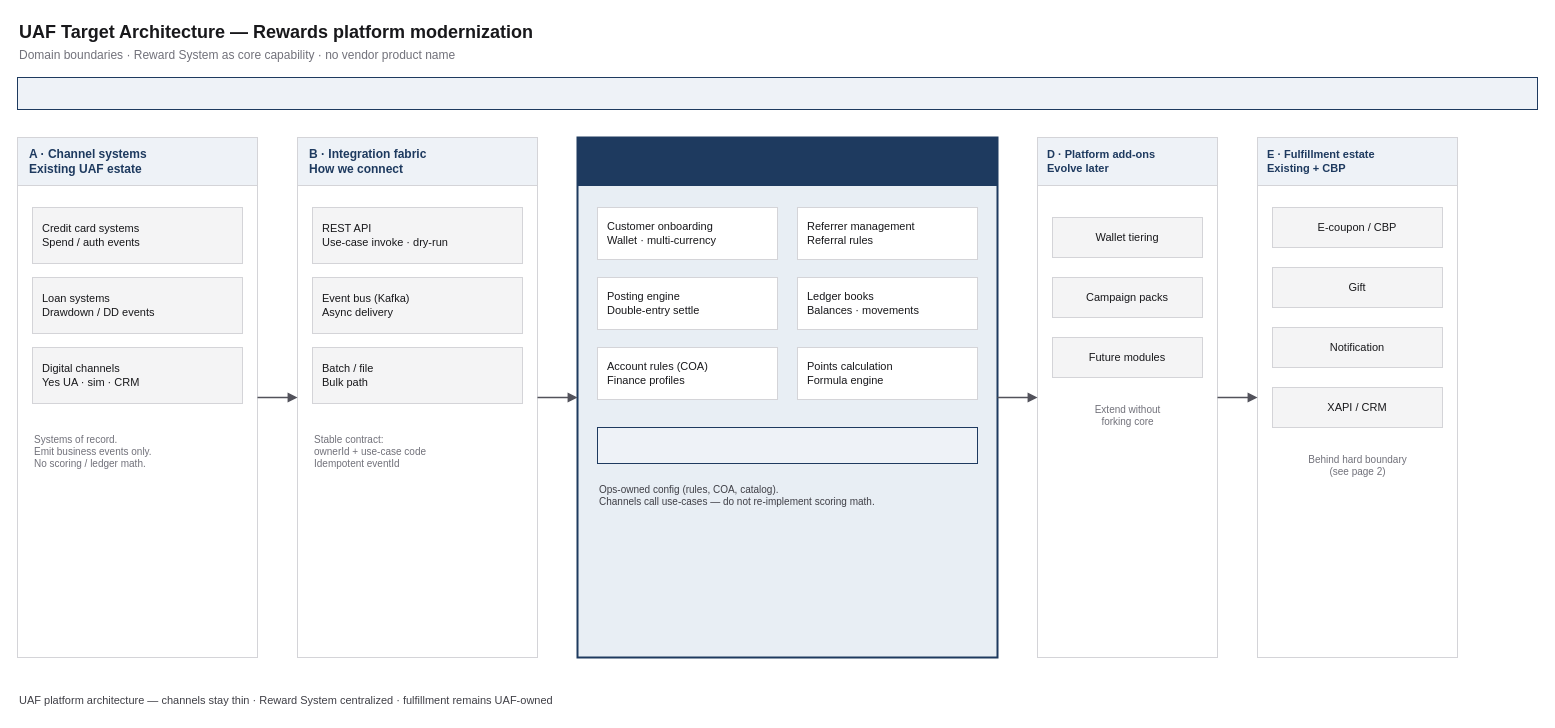
This 1555x728 diagram has some shape labels left out. Here are the shapes that lost their labels. From the top down, the centre of each, then its label:
(x=777, y=93): Channels → Integration fabric → Reward System → Orchestration / fulfillment
(x=787, y=161): C · Reward System New core domain (NEW BUILD)
(x=787, y=445): Runtime: event → admit → calculate → post → books → outbound
